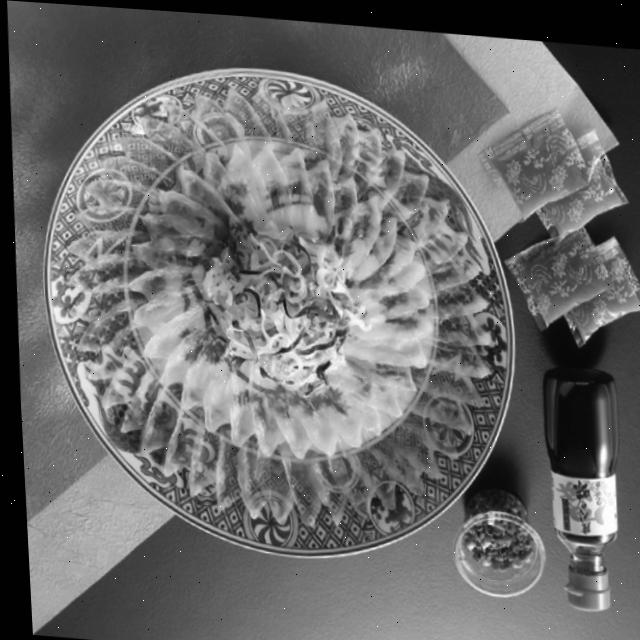刺身生食: (34, 60, 520, 549)
